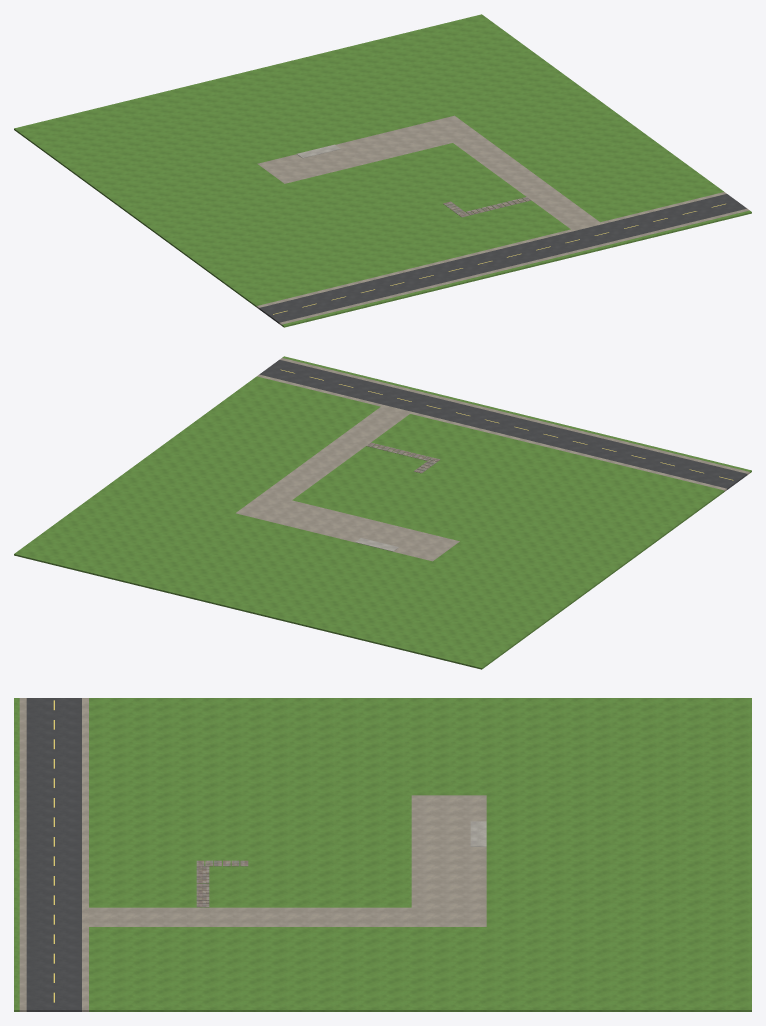
The model's file is site.glb.
3 renders of one model, top to bottom at view 1: azimuth 30°, elevation 25°; view 2: azimuth 150°, elevation 25°; view 3: azimuth 270°, elevation 25°, orthographic. The views are drawn at different scales.
Visible parts, largest first — view 1: site_grass, site_gravel, site_asphalt; view 2: site_grass, site_gravel, site_asphalt; view 3: site_grass, site_gravel, site_asphalt, site_stone.
Part boxes in pixels (x1=…): site_grass: x1=14, y1=14, x2=751, y2=327; site_gravel: x1=256, y1=115, x2=749, y2=325; site_asphalt: x1=259, y1=194, x2=746, y2=323; site_grass: x1=14, y1=356, x2=751, y2=669; site_gravel: x1=236, y1=358, x2=749, y2=561; site_asphalt: x1=259, y1=359, x2=747, y2=489; site_grass: x1=14, y1=698, x2=751, y2=1011; site_gravel: x1=19, y1=698, x2=486, y2=1011; site_asphalt: x1=26, y1=698, x2=81, y2=1011; site_stone: x1=196, y1=860, x2=248, y2=907.
Size of the model in its own units: 64 by 0.25 by 64.
Materials: 6 (5 with a texture image).
